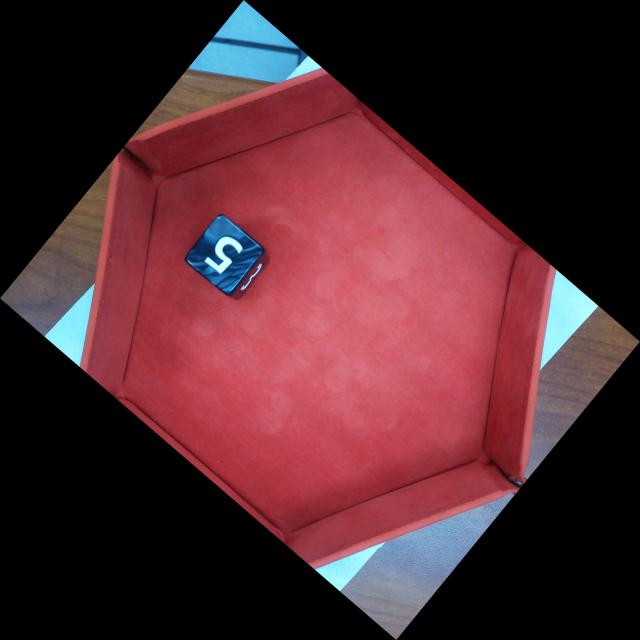dice: (182, 213, 268, 298)
